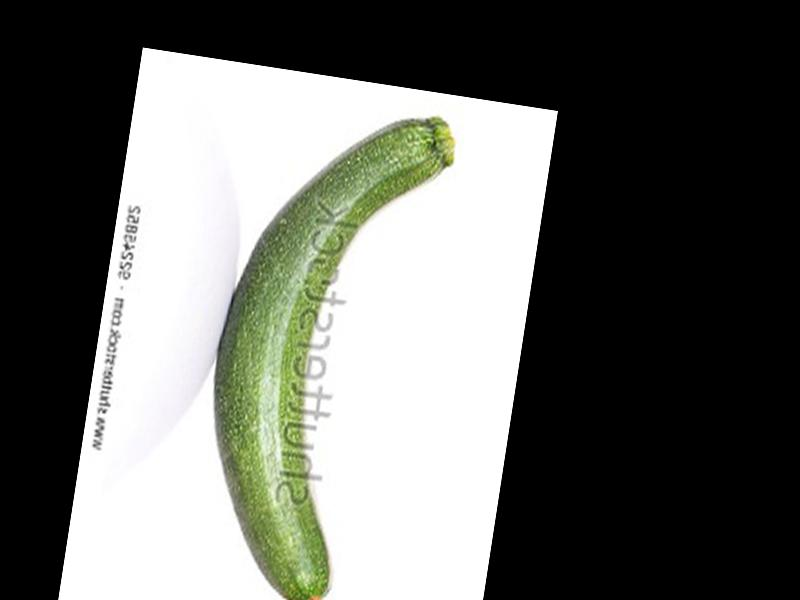Cucumber: (183, 92, 460, 600)
